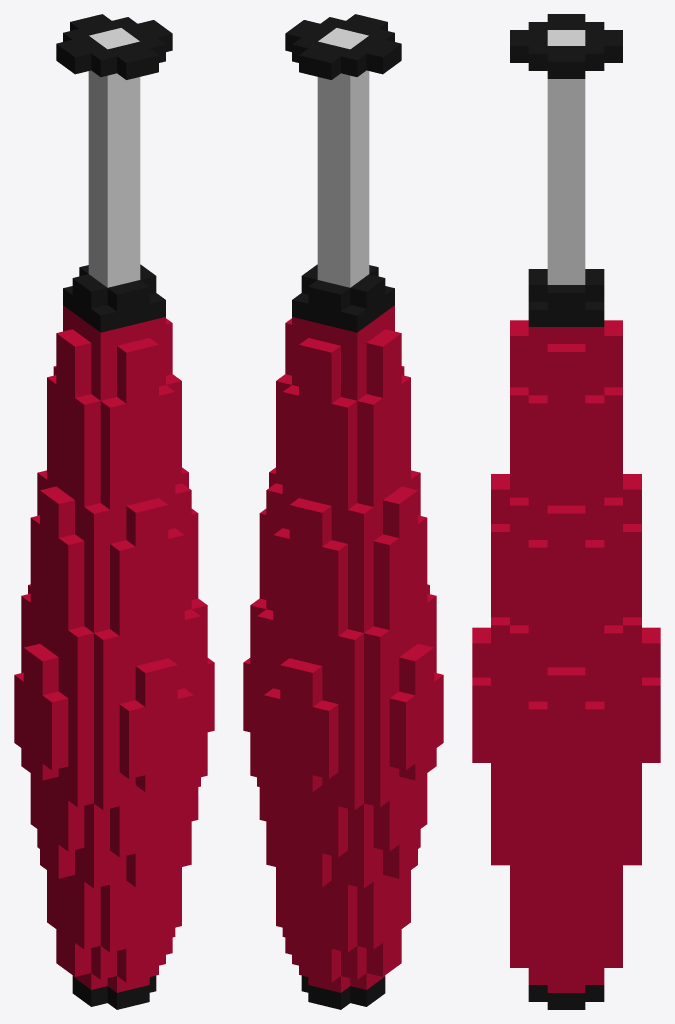
Rendered from sys_balk-3.obj.
3 renders of one model, left to right at view 1: azimuth 30°, elevation 25°; view 2: azimuth 150°, elevation 25°; view 3: azimuth 270°, elevation 25°, orthographic.
Size of the model in its own units: 1 by 5.6 by 1.
Materials: 1 (1 with a texture image).
